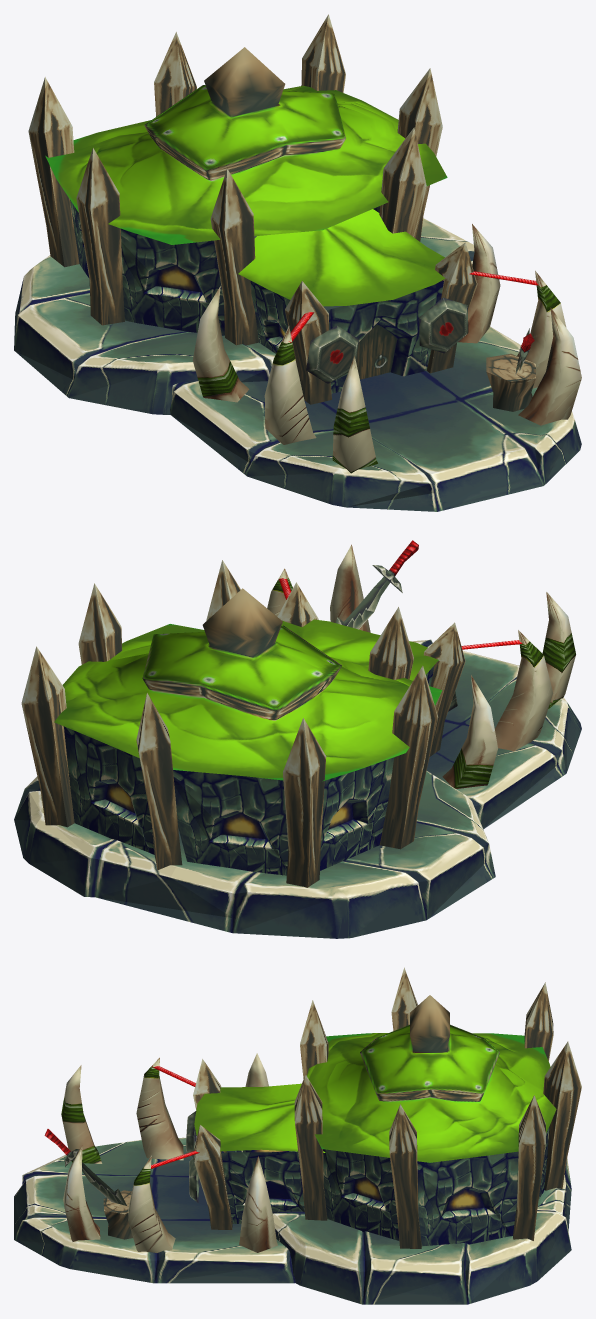
File: Orc_Village_Building_06.FBX
3 renders of one model, top to bottom at view 1: azimuth 30°, elevation 25°; view 2: azimuth 150°, elevation 25°; view 3: azimuth 270°, elevation 25°, orthographic. The views are drawn at different scales.
Parts seen in each view (by area): view 1: Orc_Village_Building_06; view 2: Orc_Village_Building_06; view 3: Orc_Village_Building_06.
Part boxes in pixels (x1,y1,x2,y2): Orc_Village_Building_06: [14, 14, 581, 511]; Orc_Village_Building_06: [14, 540, 581, 938]; Orc_Village_Building_06: [14, 967, 581, 1304].
Size of the model in its own units: 1287 by 790 by 1782.
